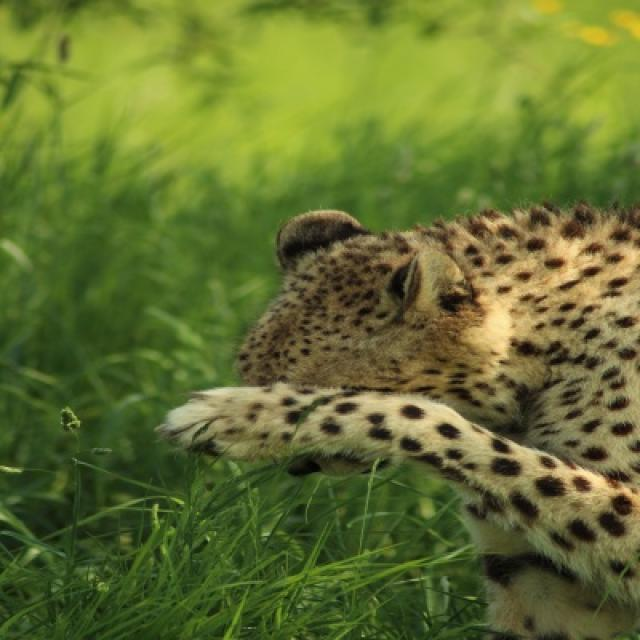Cheetah: (203, 203, 638, 638)
